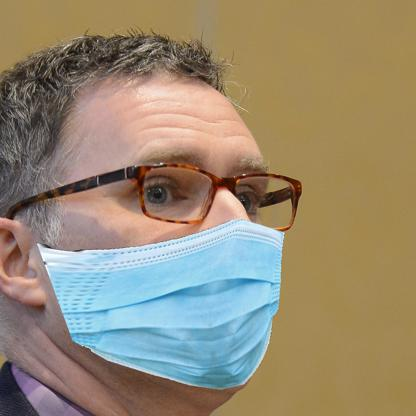mask: (34, 217, 284, 391)
